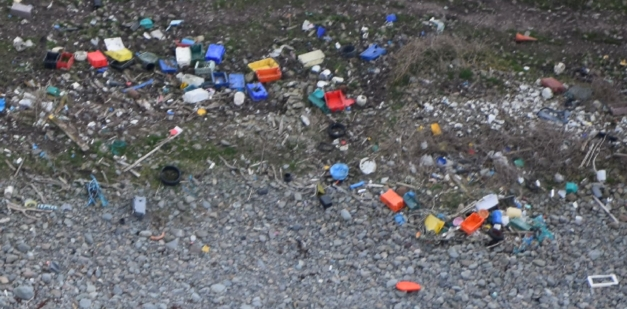scattered_barrel: (506, 19, 627, 94)
together_barrel: (1, 1, 409, 140), (318, 152, 626, 254), (1, 85, 185, 226)
white_in_green: (371, 258, 442, 309), (572, 252, 626, 309)
